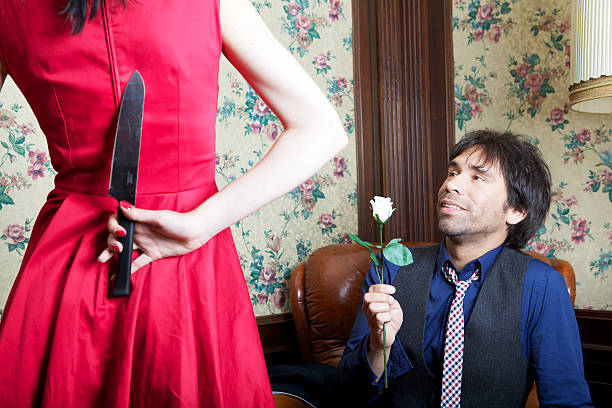knife: (107, 67, 145, 300)
